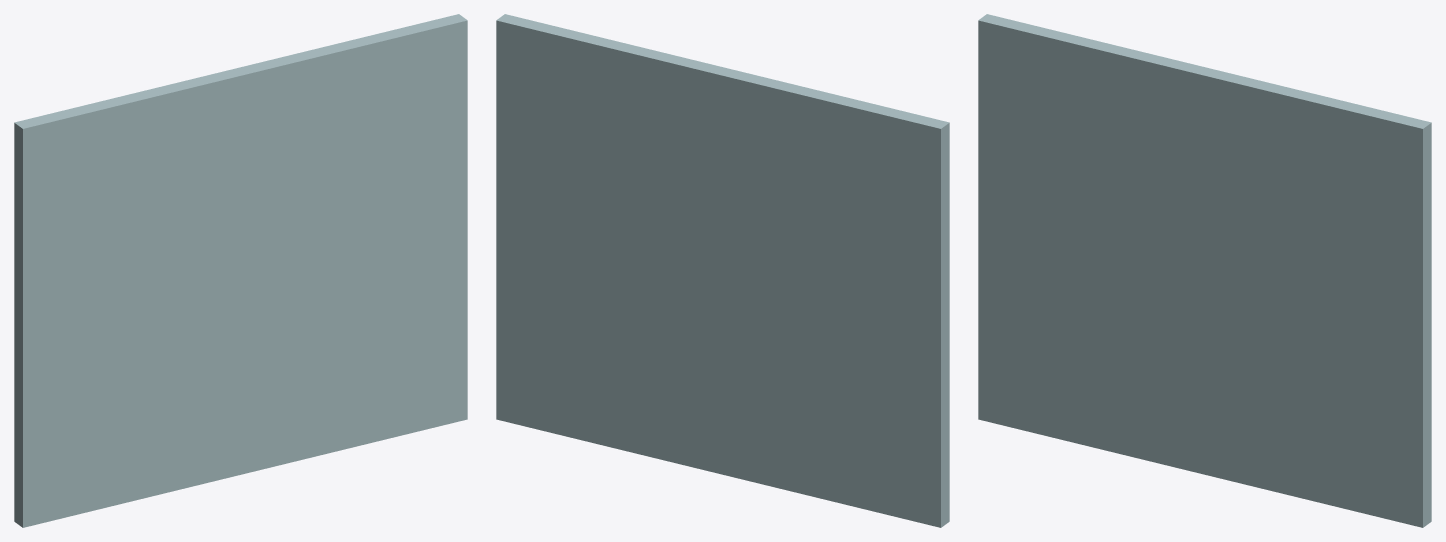
The model's file is prepared_acrylic_stock.glb.
The picture shows the model from 3 angles, left to right: view 1: azimuth 30°, elevation 25°; view 2: azimuth 150°, elevation 25°; view 3: azimuth 330°, elevation 25°; orthographic projection.
Visible parts, largest first — view 1: raw_acrylic_sheet_2, raw_acrylic_sheet_1; view 2: raw_acrylic_sheet_1, raw_acrylic_sheet_2; view 3: raw_acrylic_sheet_2, raw_acrylic_sheet_1.
Boxes of the visible parts, box(x1,y1,x2,y2) form: raw_acrylic_sheet_2: box(18, 17, 467, 527); raw_acrylic_sheet_1: box(14, 14, 462, 524); raw_acrylic_sheet_1: box(496, 17, 945, 527); raw_acrylic_sheet_2: box(501, 14, 949, 524); raw_acrylic_sheet_2: box(978, 17, 1427, 527); raw_acrylic_sheet_1: box(983, 14, 1431, 524).
Size of the model in its own units: 0.35 by 0.3 by 0.012.
